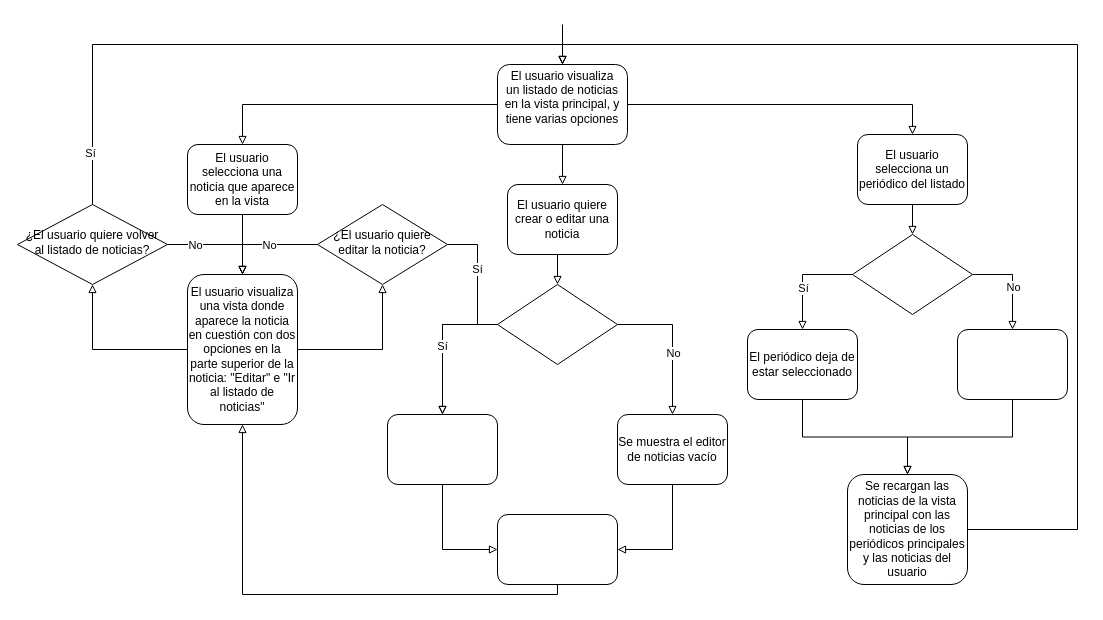
This 1103x620 diagram has some shape labels left out. Each missing label, with the box of its shape:
El periódico se queda seleccionado: (956, 328, 1068, 400)
El usuario termina de editar la noticia: (496, 514, 618, 584)
Se carga el contenido de la noticia en el editor: (386, 414, 498, 484)
¿Estaba seleccionado?: (852, 234, 972, 314)
¿La noticia existe?: (496, 284, 618, 364)
